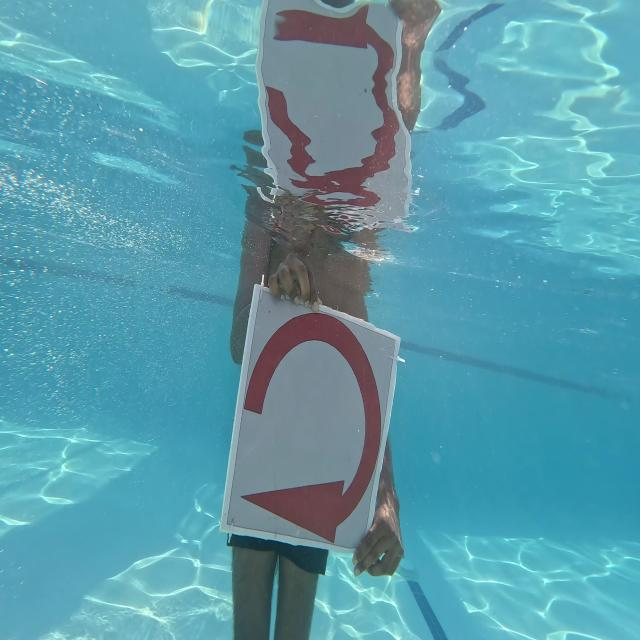red_side: (230, 279, 383, 557)
